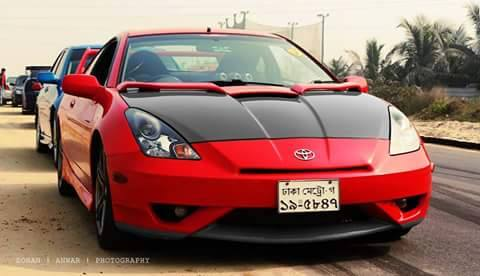registration_plate: (278, 179, 340, 213)
